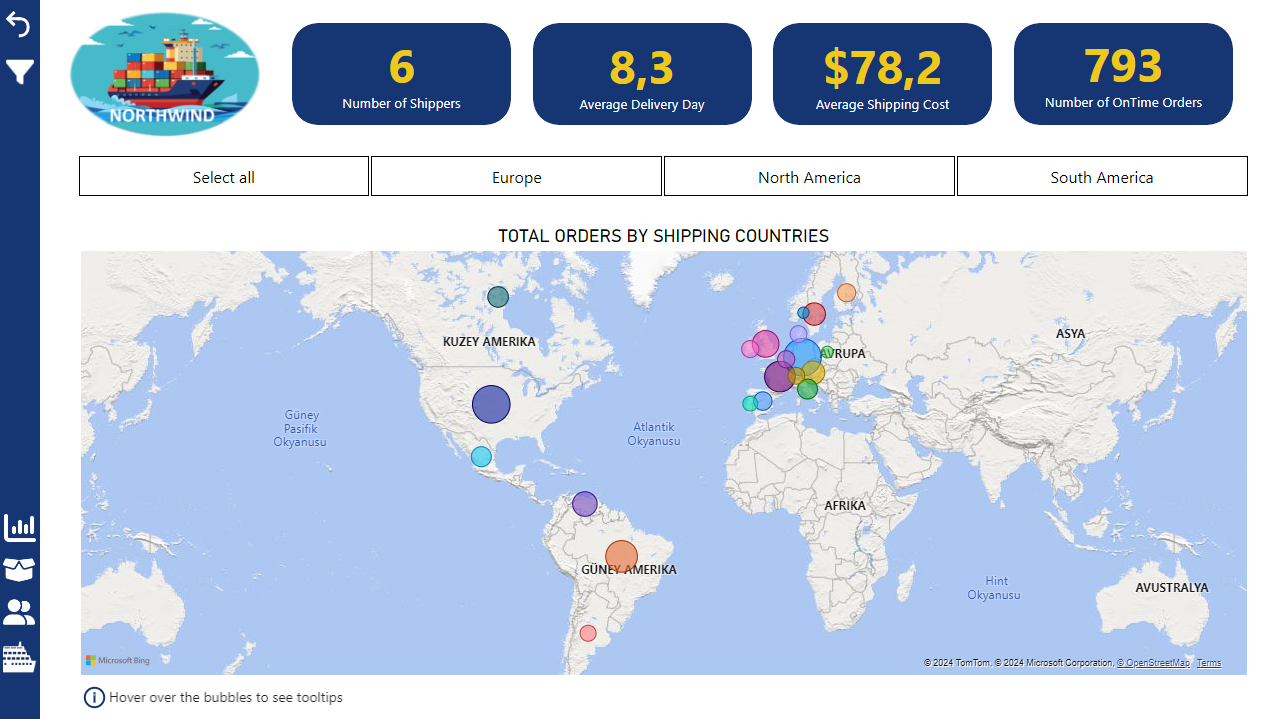

What the dashboard file says about the page in this screenshot:
{"tool":"powerbi","page":{"name":"Shippers","canvas":[1280,720],"ordinal":3},"visuals":[{"type":"shape","title":"Left Nav Background","box":[0,0,41,720],"z":0},{"type":"group","id":"g1","title":"KPI Cards","box":[292.7,23.7,941,102],"z":0,"group":"g3"},{"type":"shape","box":[292.7,23.7,219,102],"z":0,"group":"g1"},{"type":"card","fields":{"Values":["ölçüler.Number of Shippers"]},"box":[295.7,23.7,213,98],"z":0,"group":"g2"},{"type":"actionButton","box":[0,593.1,41,40],"z":0,"group":"g4"},{"type":"group","id":"g2","title":"KPI Values","box":[295.7,23.7,935,99.3],"z":1000,"group":"g3"},{"type":"shape","box":[533.4,23.7,219,102],"z":1000,"group":"g1"},{"type":"card","fields":{"Values":["ölçüler.Average Delivery Day"]},"box":[536.7,25.7,212,97],"z":1000,"group":"g2"},{"type":"actionButton","box":[3,55,39,36],"z":1000},{"type":"actionButton","box":[0,551.1,41,40],"z":1000,"group":"g4"},{"type":"actionButton","box":[0.5,7,41,36],"z":2000},{"type":"shape","box":[774,23.7,219,102],"z":2000,"group":"g1"},{"type":"card","fields":{"Values":["ölçüler.OnTimeOrders"]},"box":[1017.7,23.7,213,97],"z":2000,"group":"g2"},{"type":"actionButton","box":[0,635,42,46],"z":2000,"group":"g4"},{"type":"group","id":"g3","title":"KPIs","box":[292.7,23.7,941,102],"z":3000},{"type":"shape","box":[1014.7,23.7,219,102],"z":3000,"group":"g1"},{"type":"card","fields":{"Values":["ölçüler.Average Shipping Cost"]},"box":[777,26,213,97],"z":3000,"group":"g2"},{"type":"actionButton","box":[1,509.2,41,40],"z":3000,"group":"g4"},{"type":"image","box":[39,7,254,136],"z":4000},{"type":"map","title":"TOTAL ORDERS BY SHIPPING COUNTRIES","fields":{"Category":["continents.countries"],"Size":["ölçüler.Total Orders"],"Series":["continents.countries"]},"box":[77,226,1176,455],"z":5000},{"type":"slicer","fields":{"Values":["continents.continents"]},"box":[54,150,1219,54],"z":6000},{"type":"group","id":"g4","title":"Group 1","box":[0,509.2,42,171.8],"z":7000},{"type":"actionButton","box":[80,683,35,31],"z":9000},{"type":"image","box":[104,683,248,31],"z":10000}]}

Visuals, with their boxes on the page's 1280x720 design canvas (x1, y1, x2, y2). These are canvas units, not pixel positions in the 1279x719 screenshot, which may show the page scaled, cropped or inside an application window:
"Left Nav Background" shape: box=[0, 0, 41, 720]
"KPI Cards" group: box=[293, 24, 1234, 126]
shape: box=[293, 24, 512, 126]
card - ölçüler.Number of Shippers: box=[296, 24, 509, 122]
actionButton: box=[0, 593, 41, 633]
"KPI Values" group: box=[296, 24, 1231, 123]
shape: box=[533, 24, 752, 126]
card - ölçüler.Average Delivery Day: box=[537, 26, 749, 123]
actionButton: box=[3, 55, 42, 91]
actionButton: box=[0, 551, 41, 591]
actionButton: box=[0, 7, 42, 43]
shape: box=[774, 24, 993, 126]
card - ölçüler.OnTimeOrders: box=[1018, 24, 1231, 121]
actionButton: box=[0, 635, 42, 681]
"KPIs" group: box=[293, 24, 1234, 126]
shape: box=[1015, 24, 1234, 126]
card - ölçüler.Average Shipping Cost: box=[777, 26, 990, 123]
actionButton: box=[1, 509, 42, 549]
image: box=[39, 7, 293, 143]
"TOTAL ORDERS BY SHIPPING COUNTRIES" map: box=[77, 226, 1253, 681]
slicer - continents.continents: box=[54, 150, 1273, 204]
"Group 1" group: box=[0, 509, 42, 681]
actionButton: box=[80, 683, 115, 714]
image: box=[104, 683, 352, 714]
